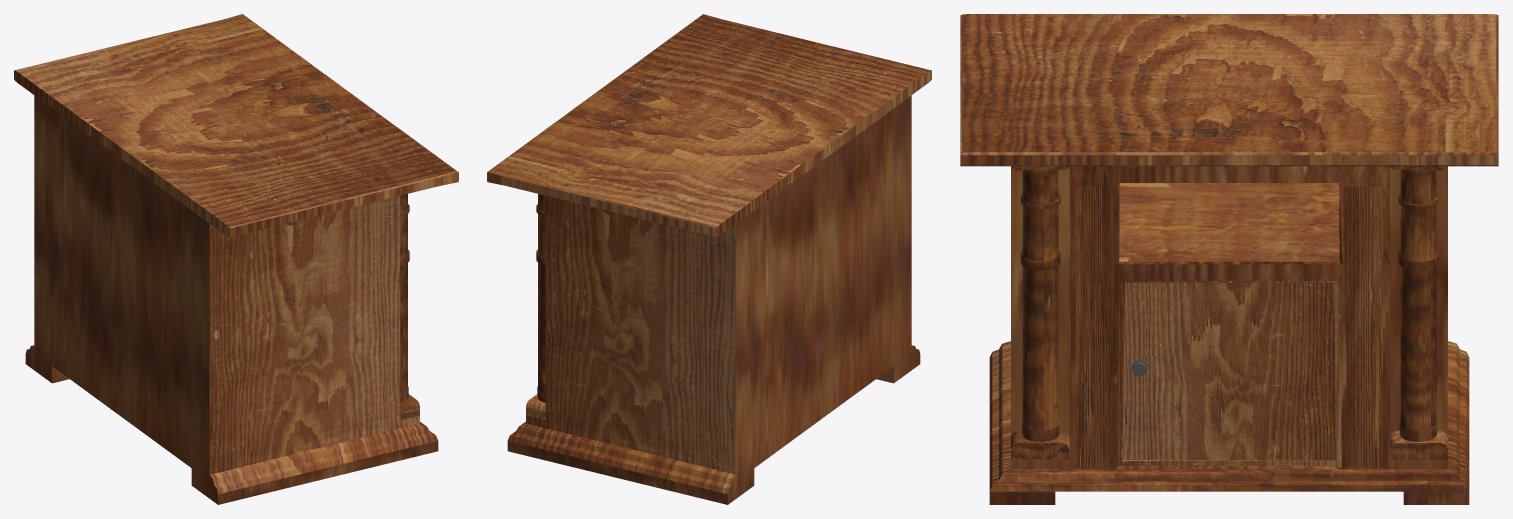
File: wardrobe.glb
3 views of the same model, side by side, from view 1: azimuth 30°, elevation 25°; view 2: azimuth 150°, elevation 25°; view 3: azimuth 270°, elevation 25° (orthographic). The views are drawn at different scales.
Parts seen in each view (by area): view 1: Cilindro.001, Cilindro, Cilindro.003, Cilindro.009, Cilindro.005, Cilindro.006; view 2: Cilindro.001, Cilindro, Cilindro.002, Cilindro.009, Cilindro.005, Cilindro.007; view 3: Cilindro.001, Cilindro.004, Cilindro, Cilindro.011, Cilindro.009, Cilindro.010, Cilindro.007, Cilindro.006, Cilindro.005, Cilindro.008.
Boxes of the visible parts, x1,y1,x2,y2 form: Cilindro.001: [15, 14, 456, 226]; Cilindro: [14, 70, 228, 504]; Cilindro.003: [209, 196, 419, 474]; Cilindro.009: [27, 345, 438, 504]; Cilindro.005: [14, 14, 458, 237]; Cilindro.006: [400, 194, 409, 402]; Cilindro.001: [489, 14, 930, 226]; Cilindro: [717, 70, 931, 504]; Cilindro.002: [526, 196, 736, 474]; Cilindro.009: [507, 345, 918, 504]; Cilindro.005: [487, 14, 931, 237]; Cilindro.007: [536, 194, 545, 402]; Cilindro.001: [962, 14, 1496, 152]; Cilindro.004: [1117, 281, 1341, 465]; Cilindro: [1011, 166, 1447, 469]; Cilindro.011: [1076, 186, 1382, 467]; Cilindro.009: [989, 341, 1469, 504]; Cilindro.010: [1069, 166, 1389, 469]; Cilindro.007: [1398, 170, 1438, 441]; Cilindro.006: [1020, 170, 1060, 441]; Cilindro.005: [960, 14, 1498, 166]; Cilindro.008: [1011, 166, 1447, 459].
Size of the model in its own units: 2.97 by 3.54 by 4.84.
Materials: 2 (1 with a texture image).
